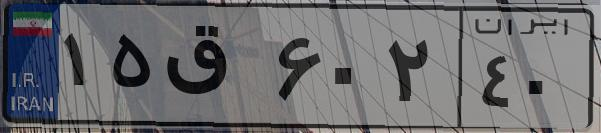0: (330, 28, 385, 110), (525, 38, 570, 115)
1: (57, 26, 110, 100)
2: (385, 28, 445, 110)
4: (475, 38, 525, 113)
5: (110, 28, 158, 98)
6: (270, 28, 330, 110)
ق: (158, 20, 270, 120)
